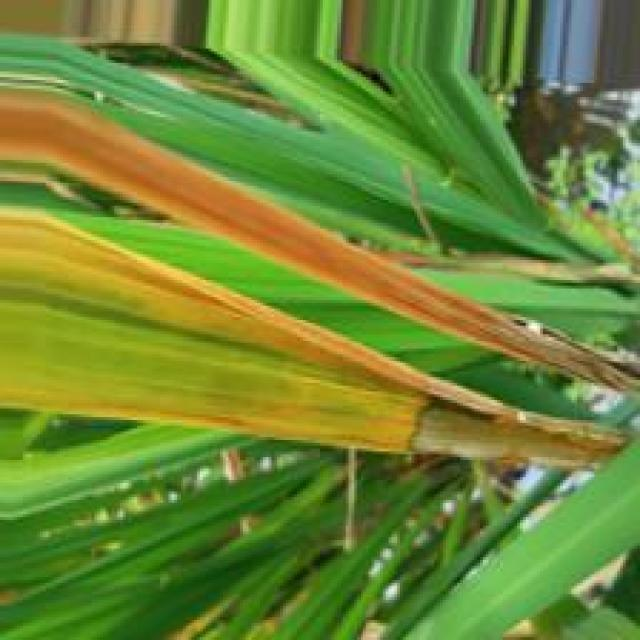Leaf_Scald: (4, 101, 605, 386), (123, 257, 540, 461)
